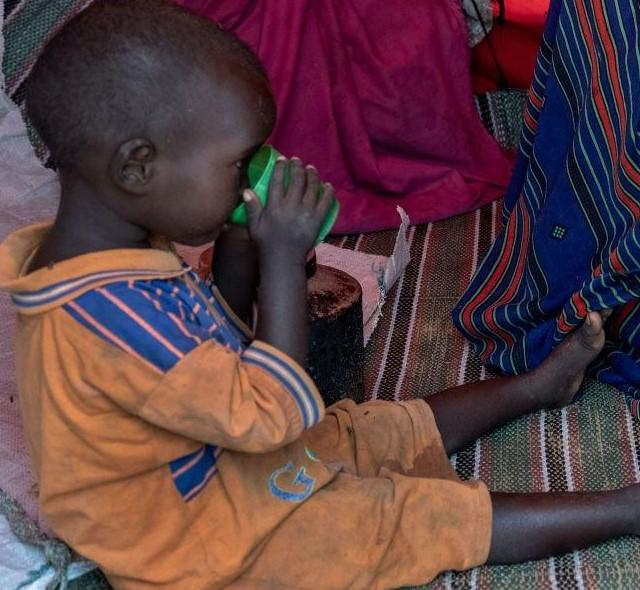Stunting: (0, 13, 299, 284)
